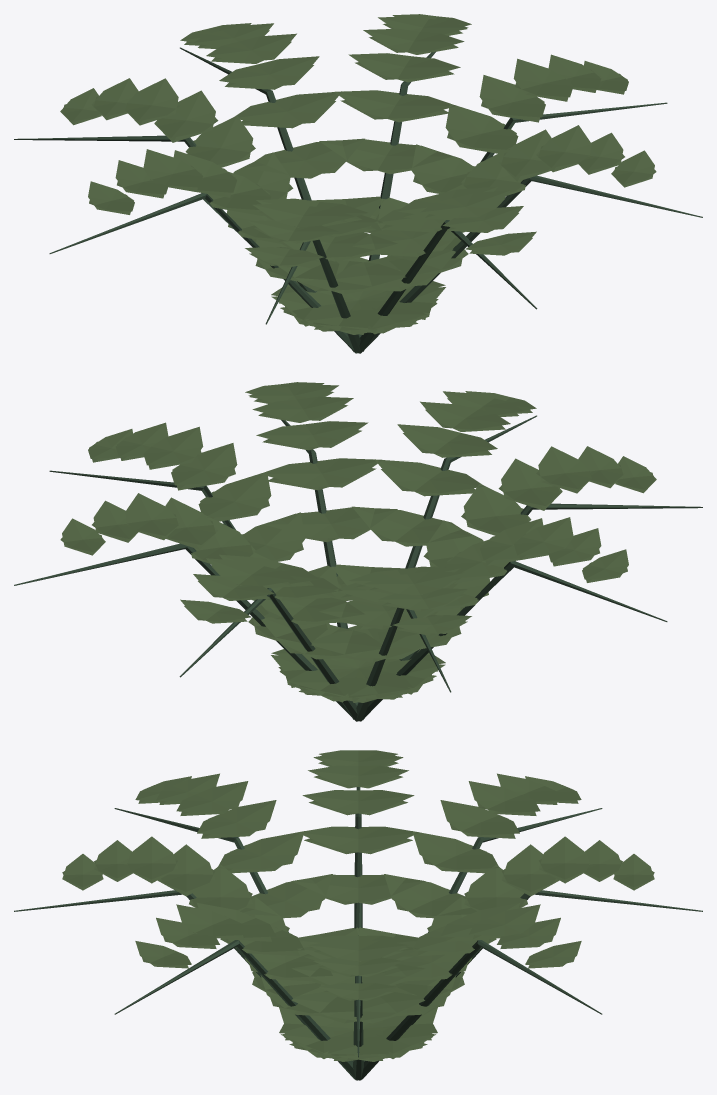
The model's file is NA_Fern.glb.
The picture shows the model from 3 angles, top to bottom: view 1: azimuth 30°, elevation 25°; view 2: azimuth 150°, elevation 25°; view 3: azimuth 270°, elevation 25°; orthographic projection. The views are drawn at different scales.
Visible parts, largest first — view 1: NA_Fern; view 2: NA_Fern; view 3: NA_Fern.
Part boxes in pixels (x1,y1,x2,y2): NA_Fern: (14, 14, 702, 353); NA_Fern: (14, 382, 702, 721); NA_Fern: (14, 750, 702, 1080).
Size of the model in its own units: 1.1 by 0.39 by 1.1.
